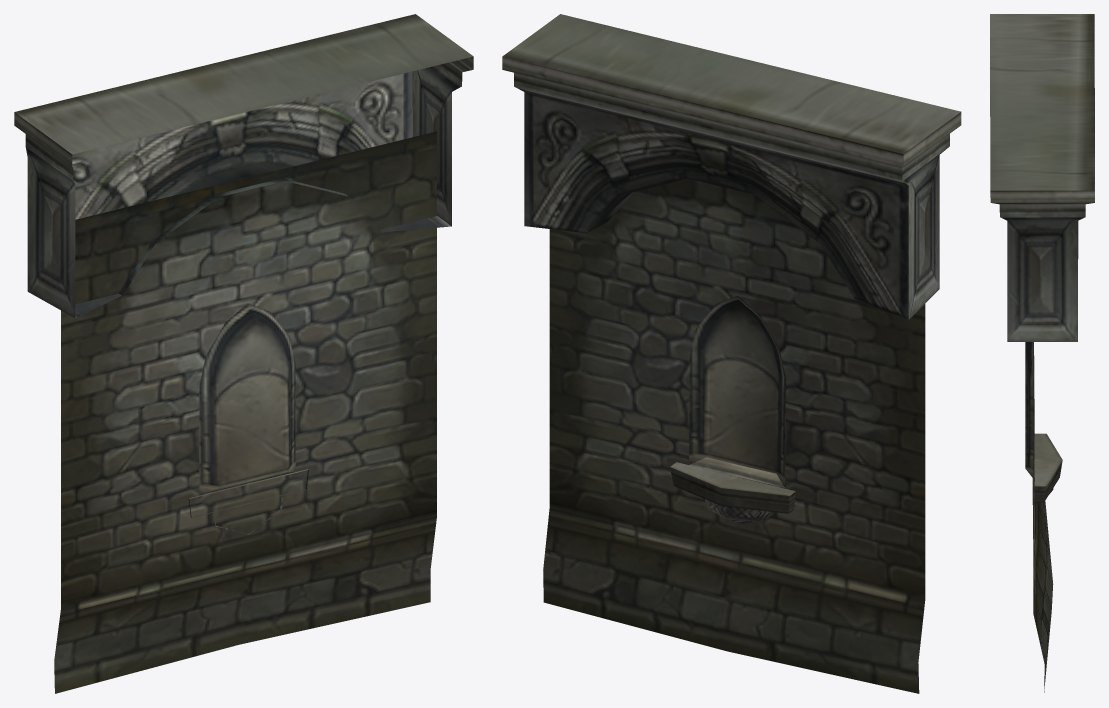
The picture shows the model from 3 angles, left to right: view 1: azimuth 30°, elevation 25°; view 2: azimuth 150°, elevation 25°; view 3: azimuth 270°, elevation 25°; orthographic projection. The views are drawn at different scales.
Visible parts, largest first — view 1: DN_1_4_dt01_d03; view 2: DN_1_4_dt01_d03; view 3: DN_1_4_dt01_d03.
Part boxes in pixels (x1,y1,x2,y2): DN_1_4_dt01_d03: [14, 14, 473, 693]; DN_1_4_dt01_d03: [502, 14, 961, 693]; DN_1_4_dt01_d03: [990, 14, 1094, 692].
Size of the model in its own units: 484 by 650 by 122.
